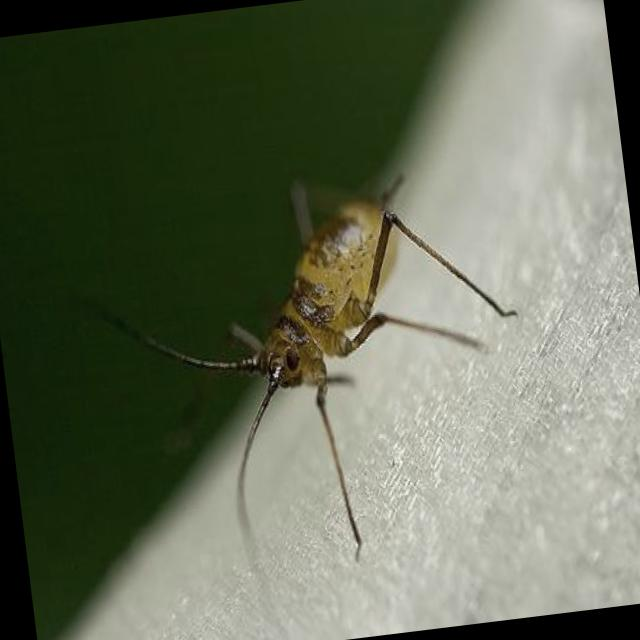Aphids: (110, 164, 524, 560)
